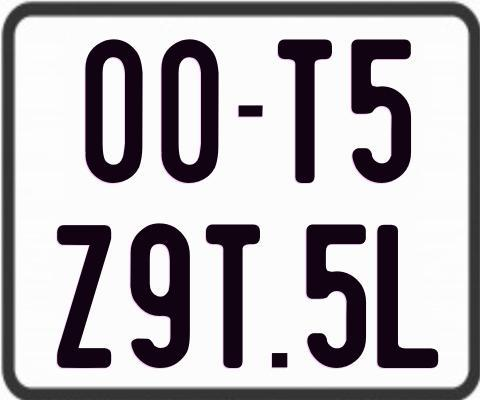0: (85, 39, 147, 185), (161, 36, 220, 182)
5: (304, 222, 368, 371), (351, 36, 412, 183)
9: (128, 222, 188, 373)
L: (375, 223, 436, 366)
T: (276, 36, 334, 183), (204, 222, 262, 366)
Z: (56, 225, 115, 374)
